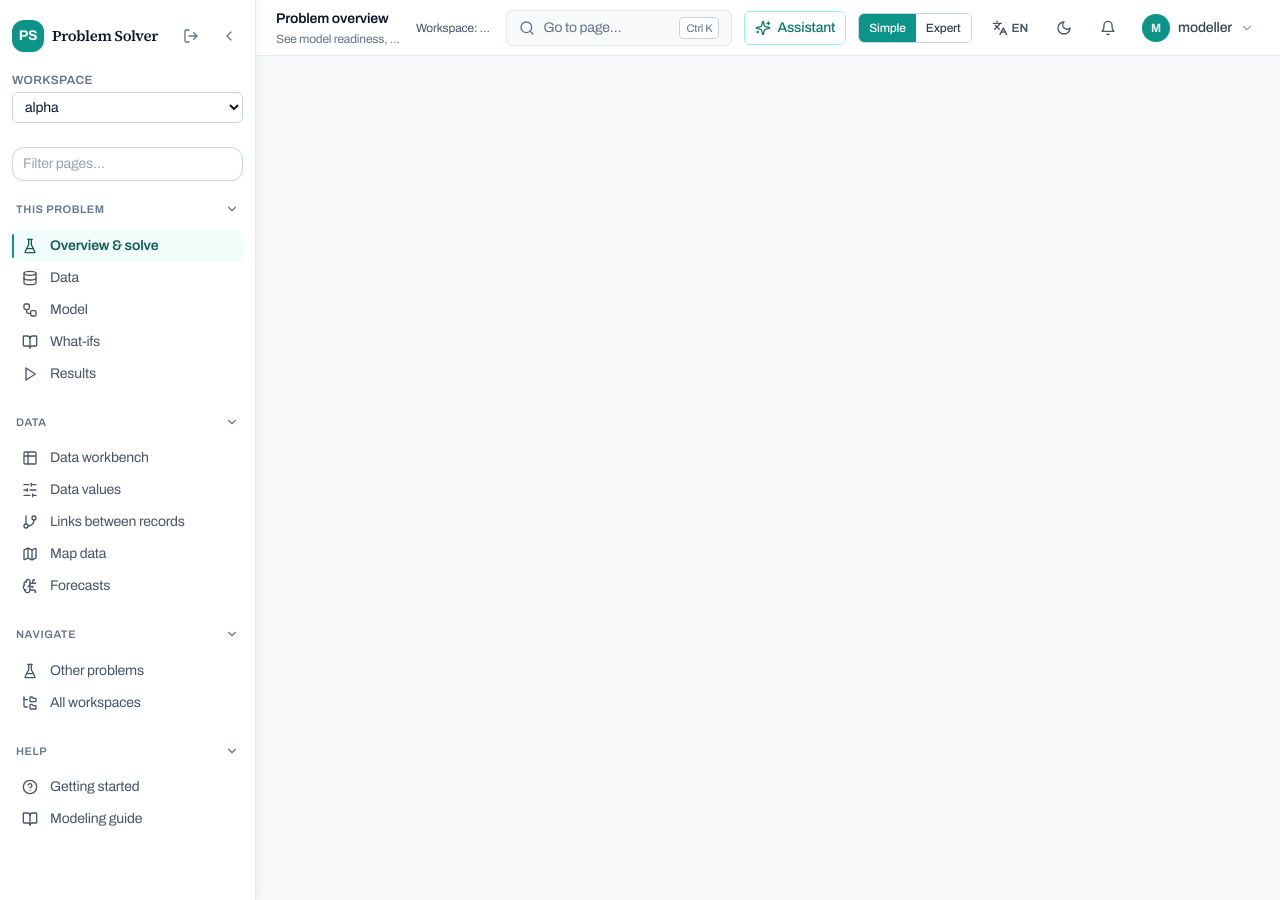
Test case: AppShell › the Simple level (simplification plan, phase 2) › is where a person starts: a short menu in a planner's words, and a switch to Expert in the top bar
The width and height of the screenshot is (1280, 900).
Expected: the link "Versions" is not shown
Expected: the text "Operations" is not shown
What coordinates should you click on to do the following:
click the button "Expert"
I would click on:
 (943, 28)
Its box is [916, 14, 971, 42].
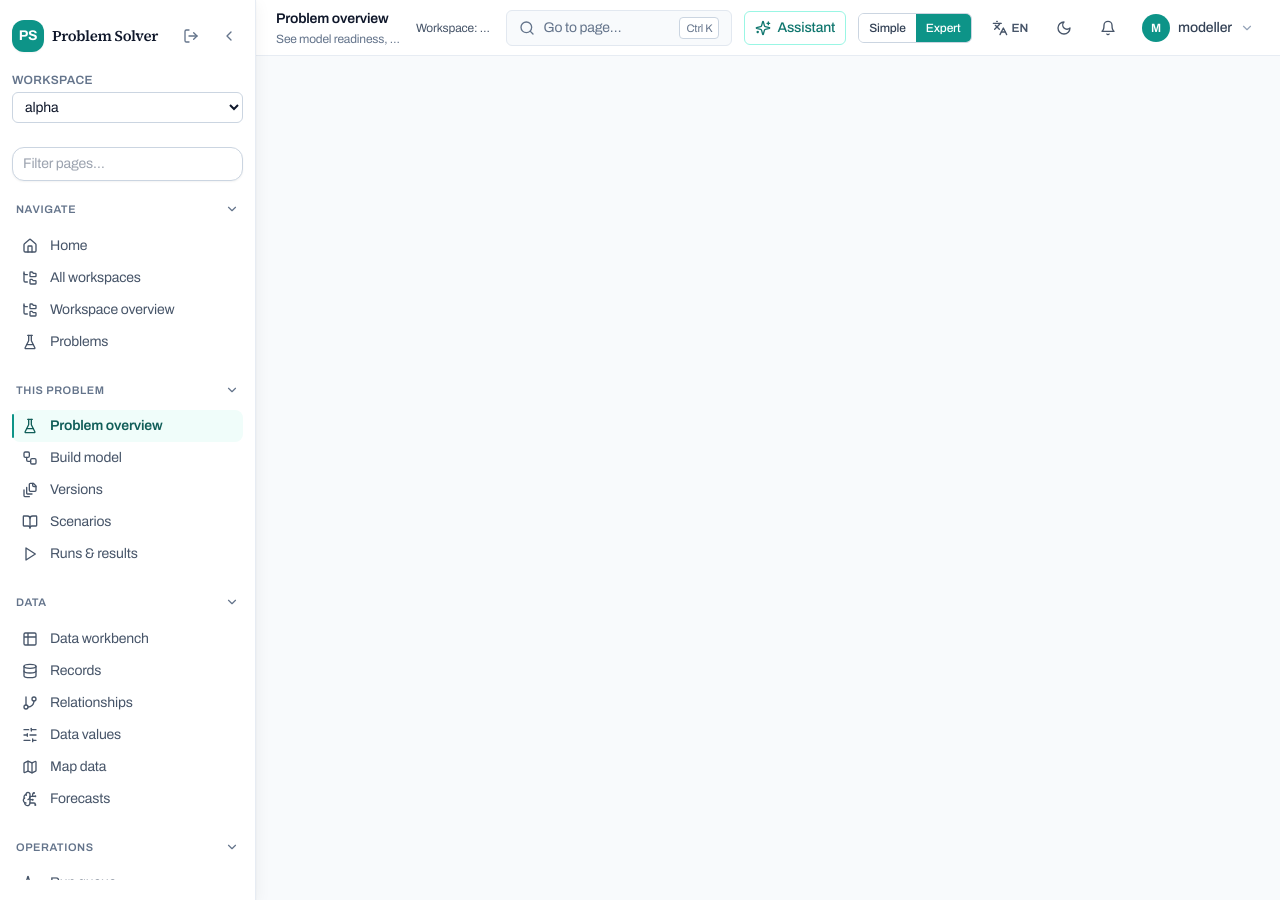
Expected: the link "Versions" is shown, [22, 482, 103, 498]
Expected: the text "Operations" is shown, [16, 838, 94, 855]
